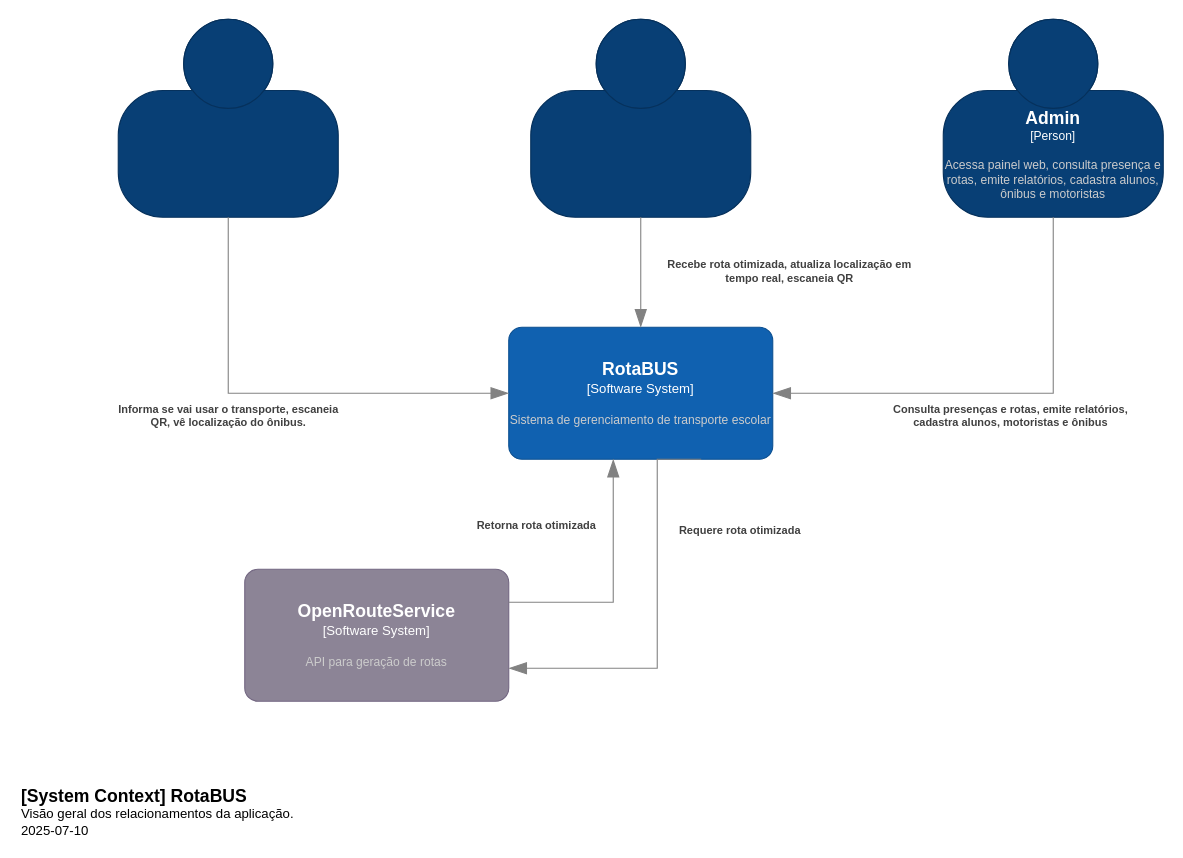
Image size: 1183x858. Some labels were removed from this diagram. The box of each missing label's shape, as (x1, y1, x2, y2) in pixels:
Aluno [Person] Usuário que informa presença, escaneia QR e vê localização: (117, 18, 338, 217)
Motorista [Person] Usuário que recebe rotas, envia localização, escaneia QR: (530, 18, 751, 217)
